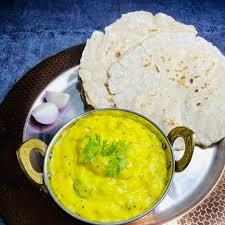bhakri: (70, 0, 225, 138)
salad: (28, 87, 70, 130)
